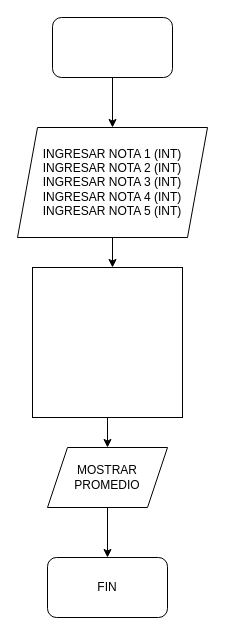
This 225x635 diagram has some shape labels left out. The box of each missing label's shape, as (x1, y1, x2, y2) in pixels:
INICIO: (52, 16, 172, 78)
PROMEDIO = (NOTA1 + NOTA2+NOTA3+ NOTA4+NOTA5) / 5: (32, 266, 182, 418)
